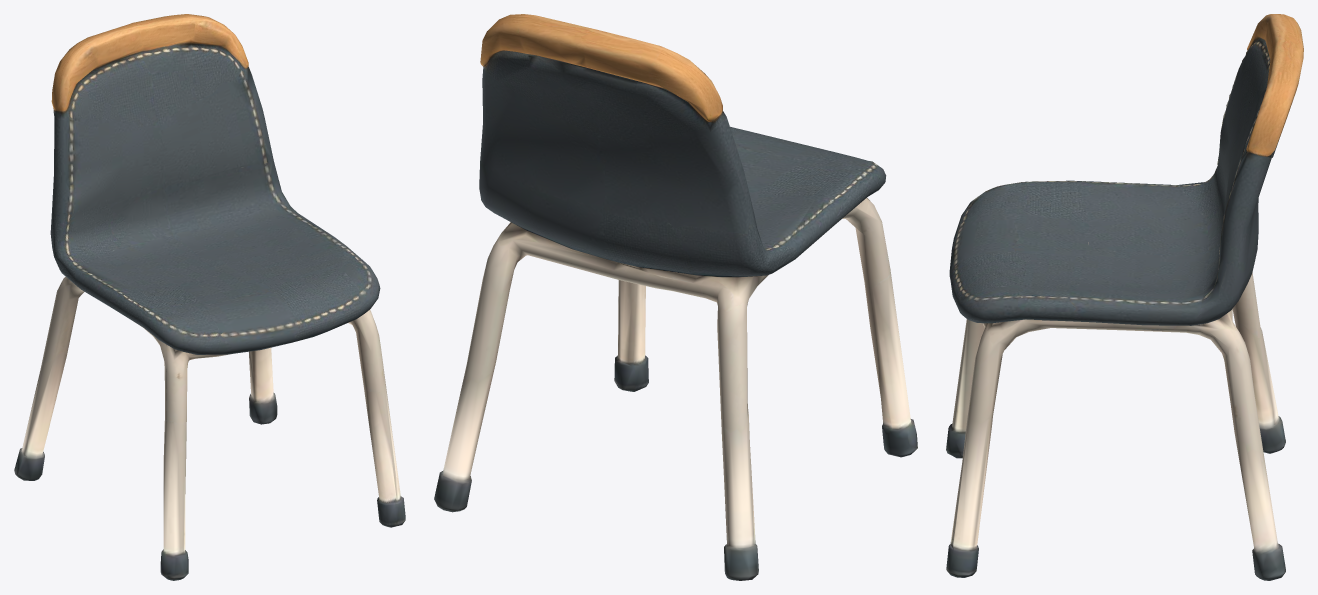
The model's file is chair.medium.glb.
3 views of the same model, side by side, from view 1: azimuth 30°, elevation 25°; view 2: azimuth 150°, elevation 25°; view 3: azimuth 270°, elevation 25° (orthographic). The views are drawn at different scales.
Parts seen in each view (by area): view 1: tripo_node_aca1ffa9-5374-4a42-8209-2fbd5167bead; view 2: tripo_node_aca1ffa9-5374-4a42-8209-2fbd5167bead; view 3: tripo_node_aca1ffa9-5374-4a42-8209-2fbd5167bead.
Boxes of the visible parts, box(x1,y1,x2,y2) form: tripo_node_aca1ffa9-5374-4a42-8209-2fbd5167bead: box(14, 14, 405, 580); tripo_node_aca1ffa9-5374-4a42-8209-2fbd5167bead: box(434, 14, 917, 580); tripo_node_aca1ffa9-5374-4a42-8209-2fbd5167bead: box(946, 14, 1303, 580).
Size of the model in its own units: 0.4118 by 0.6389 by 0.4371.
1 material, 1 textured.
